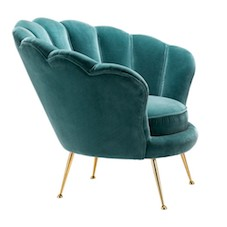chair: (4, 4, 205, 218)
